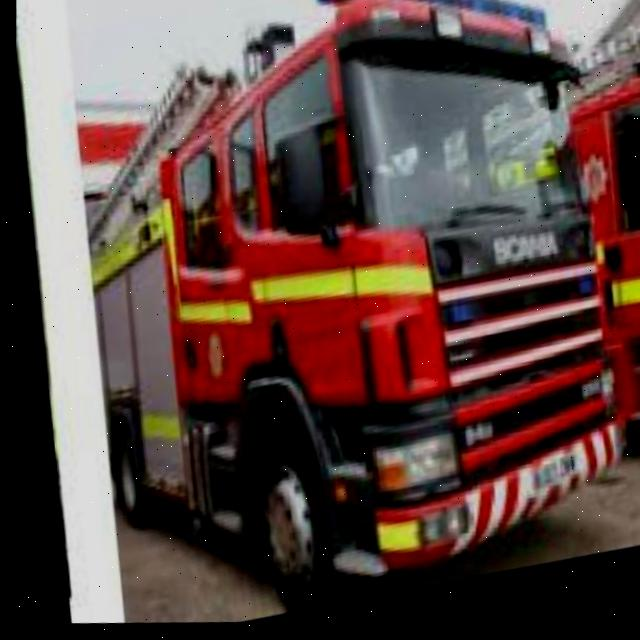emergency: (48, 0, 640, 633), (544, 24, 640, 452)
